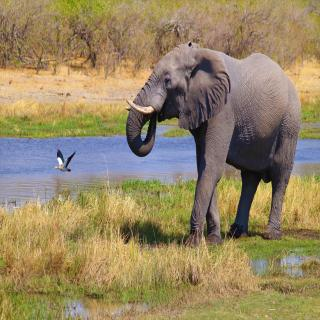Elephant: (120, 37, 304, 249)
